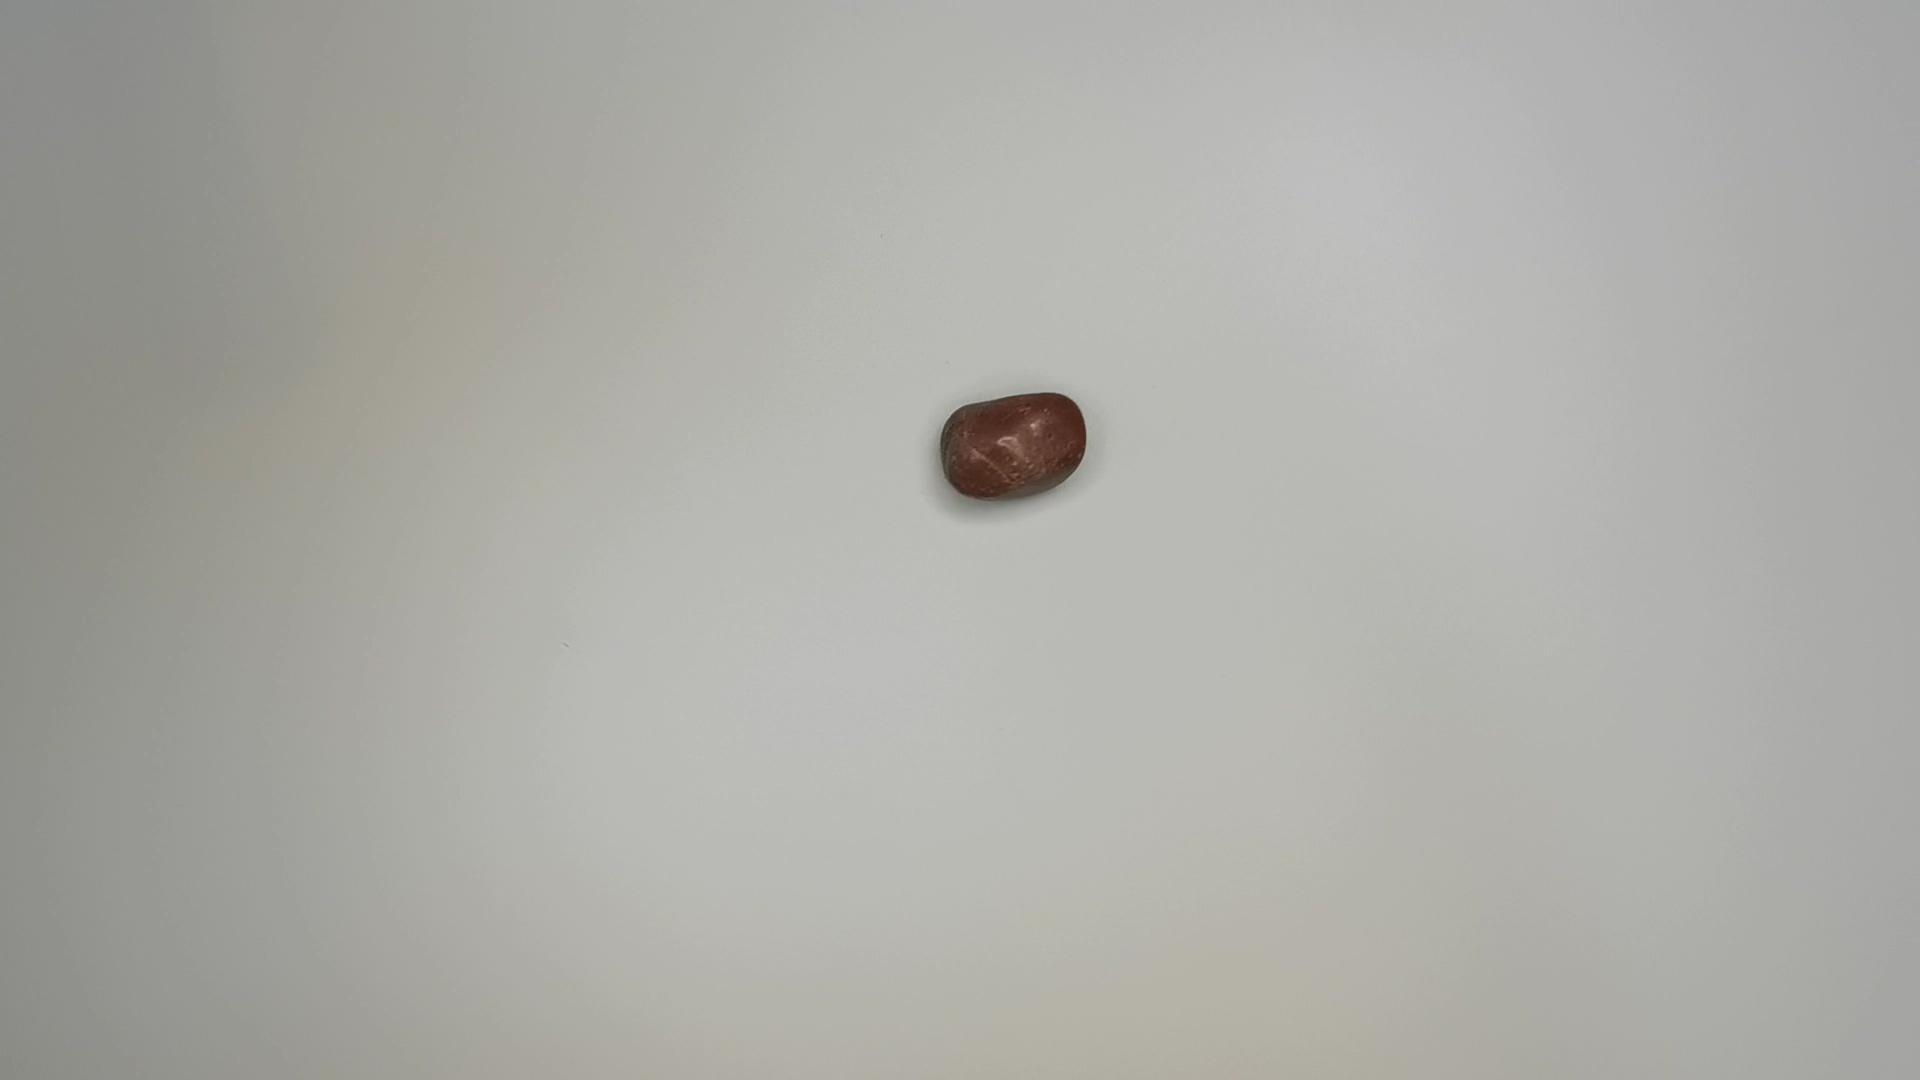ceramic: (936, 386, 1093, 506)
